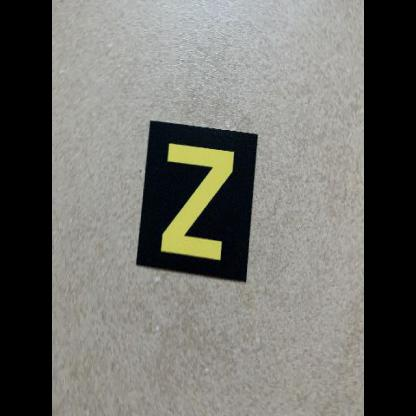z: (136, 116, 260, 286)
